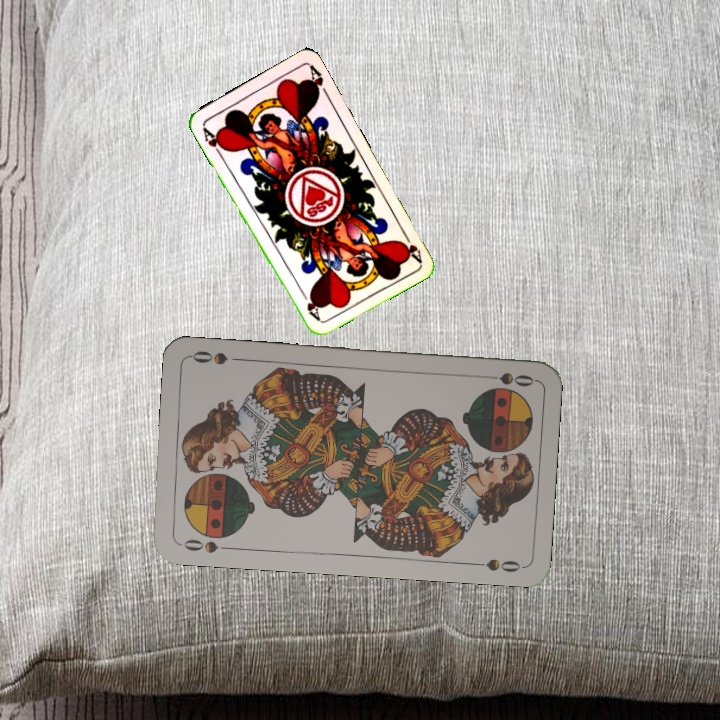HA: (198, 122, 229, 159), (396, 226, 424, 264)
SO: (477, 368, 536, 389), (176, 535, 235, 556)
